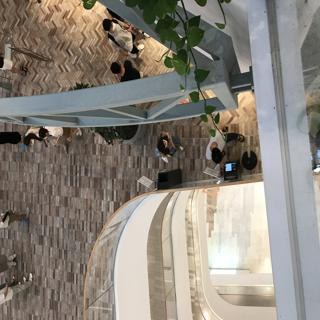person: (203, 129, 246, 171), (99, 16, 144, 52), (141, 127, 178, 169), (35, 121, 83, 152), (106, 58, 150, 85), (17, 127, 54, 150)
